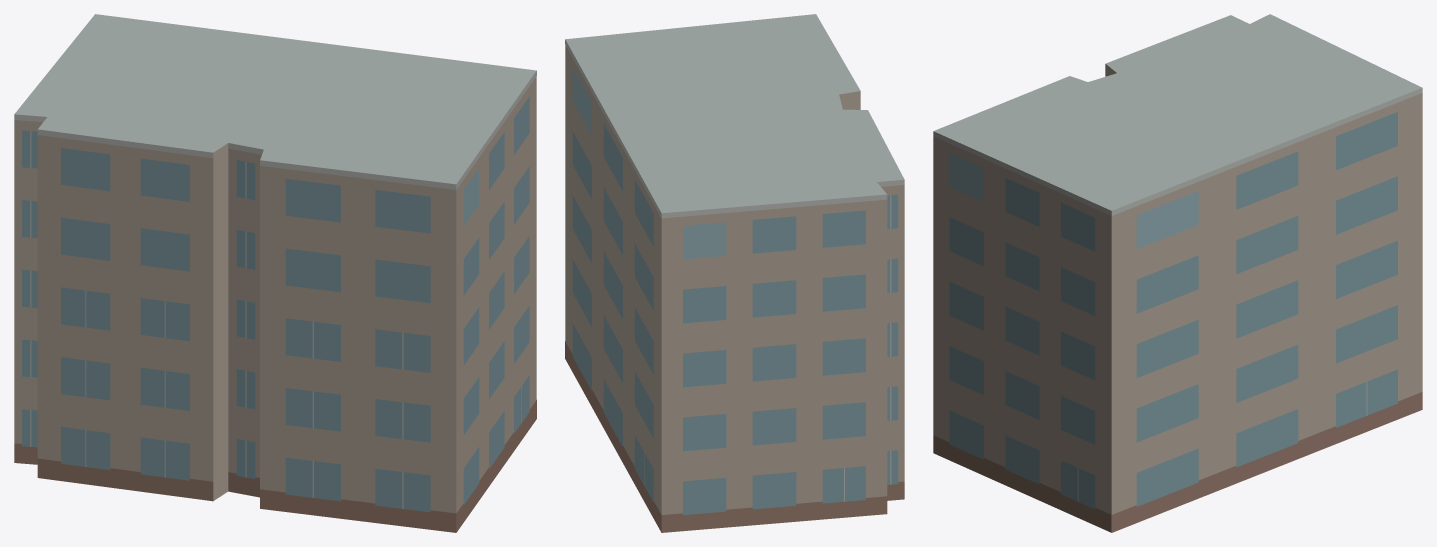
Rendered from survey-upis-32799550.glb.
3 renders of one model, left to right at view 1: azimuth 30°, elevation 25°; view 2: azimuth 150°, elevation 25°; view 3: azimuth 270°, elevation 25°, orthographic. The views are drawn at different scales.
Visible parts, largest first — view 1: survey-upis-32799550.tmp; view 2: survey-upis-32799550.tmp; view 3: survey-upis-32799550.tmp.
Part boxes in pixels (bbox=[...]): survey-upis-32799550.tmp: bbox=[14, 14, 536, 532]; survey-upis-32799550.tmp: bbox=[565, 14, 904, 532]; survey-upis-32799550.tmp: bbox=[933, 14, 1422, 532].
Bounding box in the file's own units: 20.01 × 15.25 × 21.01.
